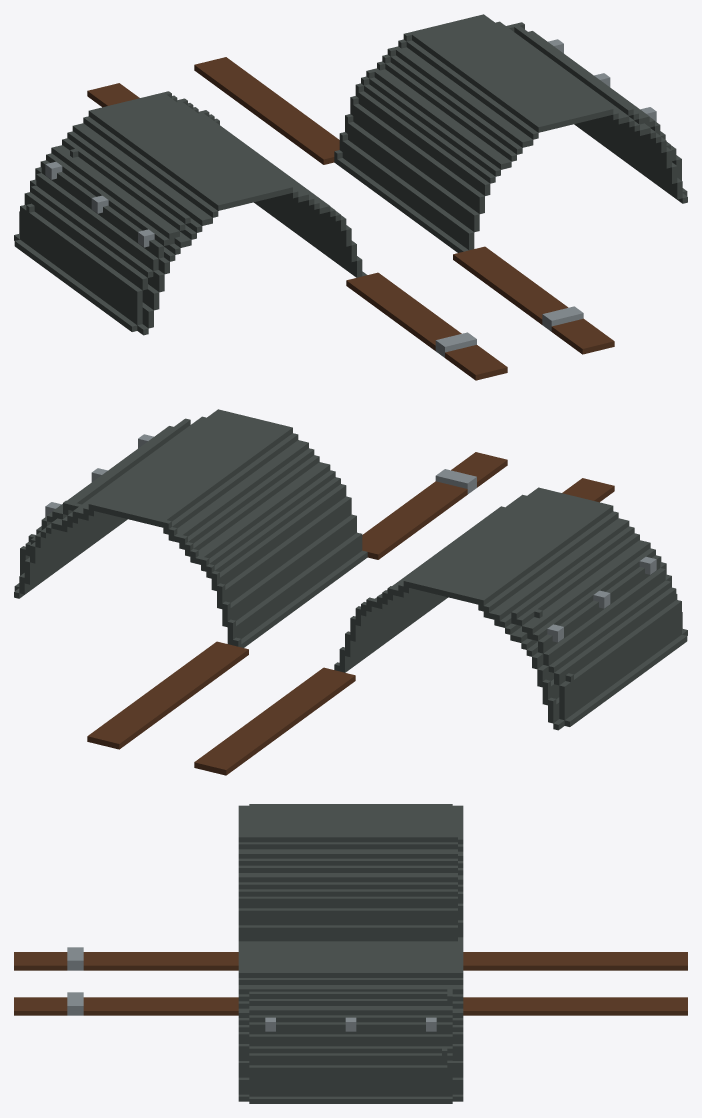
Rendered from armguard_metal_sheets_shoulders.glb.
3 renders of one model, top to bottom at view 1: azimuth 30°, elevation 25°; view 2: azimuth 150°, elevation 25°; view 3: azimuth 270°, elevation 25°, orthographic. The views are drawn at different scales.
Parts seen in each view (by area): view 1: armguard_metal_sheets_shoulders:compound; view 2: armguard_metal_sheets_shoulders:compound; view 3: armguard_metal_sheets_shoulders:compound.
Part boxes in pixels (x1,y1,x2,y2): armguard_metal_sheets_shoulders:compound: [14, 14, 687, 380]; armguard_metal_sheets_shoulders:compound: [14, 409, 687, 775]; armguard_metal_sheets_shoulders:compound: [14, 804, 687, 1103].
Bounding box in the file's own units: 0.416 × 0.08 × 0.504.
